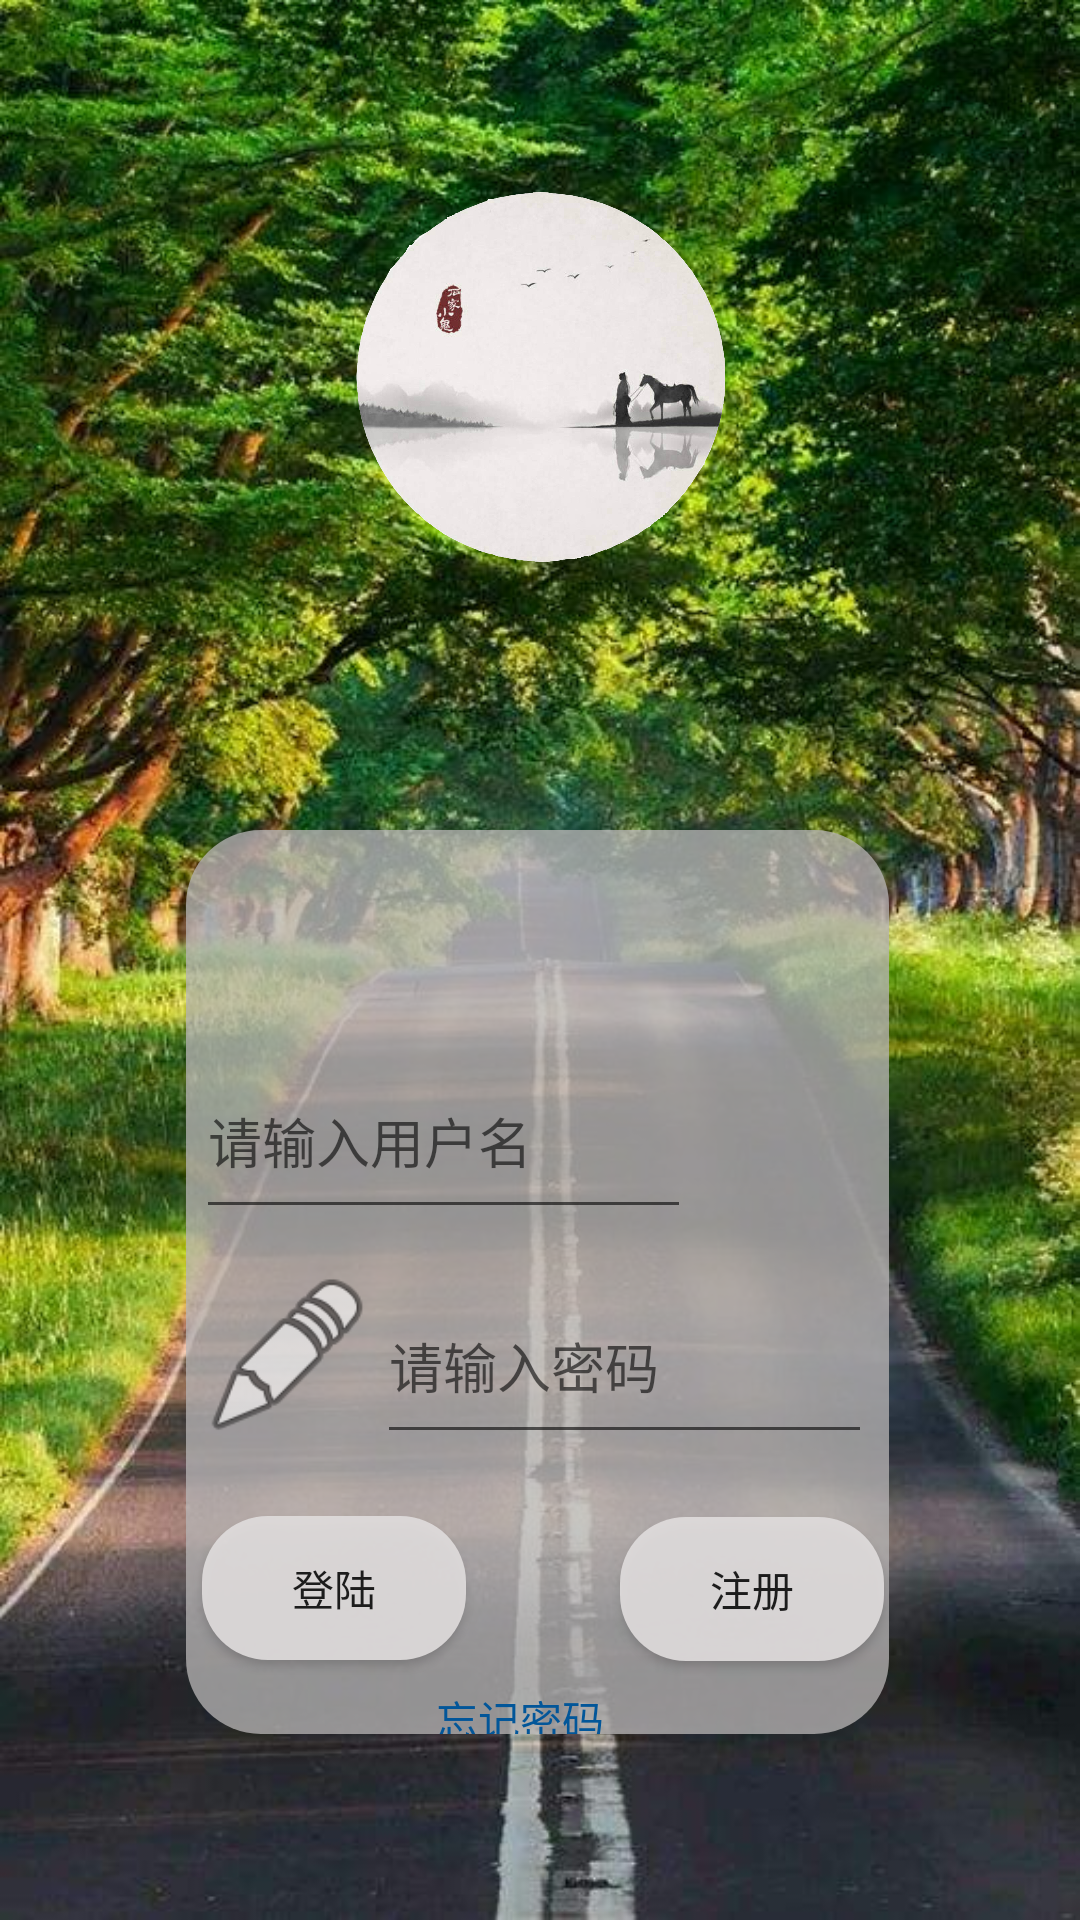

Screen size 1080 × 1920. Icon name, then its box in pixels as (x1, y1, x2, y2):
edit: (199, 1279, 362, 1430)
